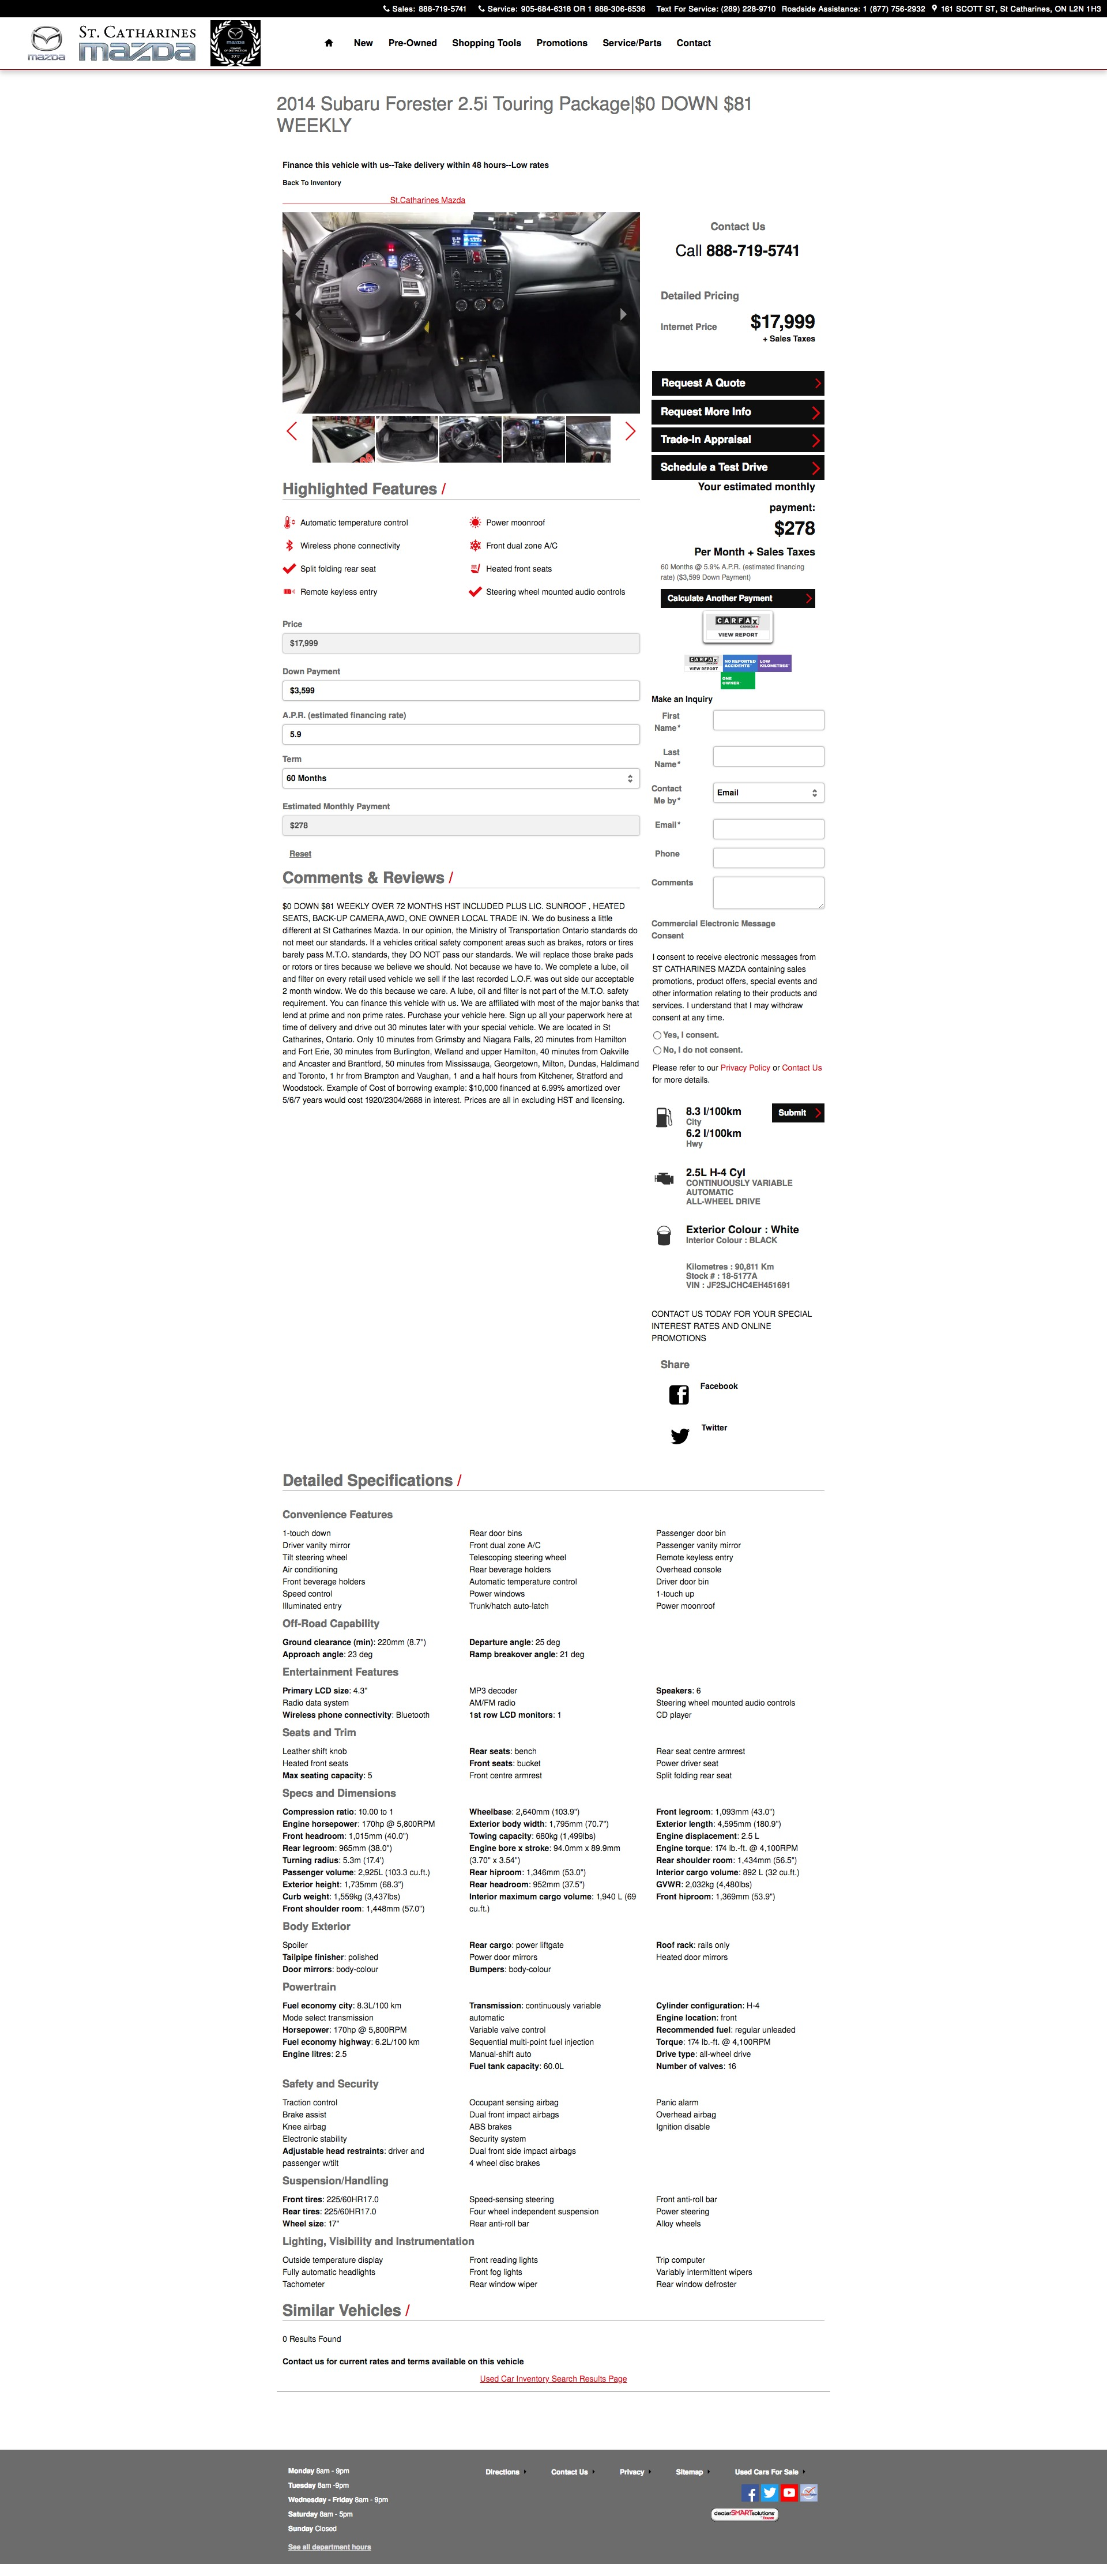car: (622, 422, 637, 442)
